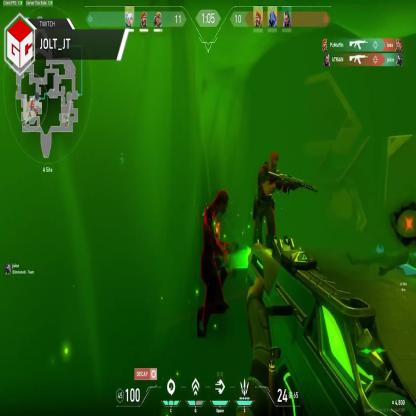enemy: (253, 152, 298, 279), (198, 190, 230, 336)
enemy_head: (215, 190, 228, 216), (270, 152, 280, 174)
